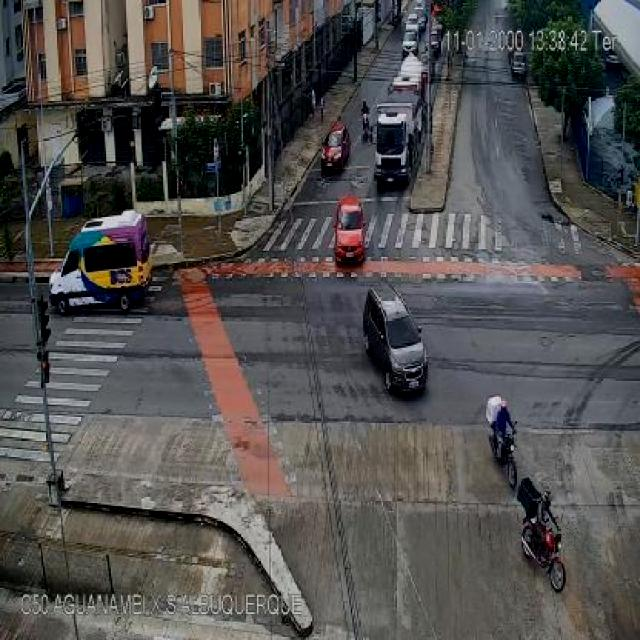Car: (362, 282, 430, 395), (334, 195, 367, 266), (320, 123, 350, 173), (401, 23, 420, 57)
Cycle: (520, 480, 573, 595), (482, 389, 524, 485), (360, 98, 371, 140)
Truck: (49, 210, 152, 316), (369, 92, 427, 189)
